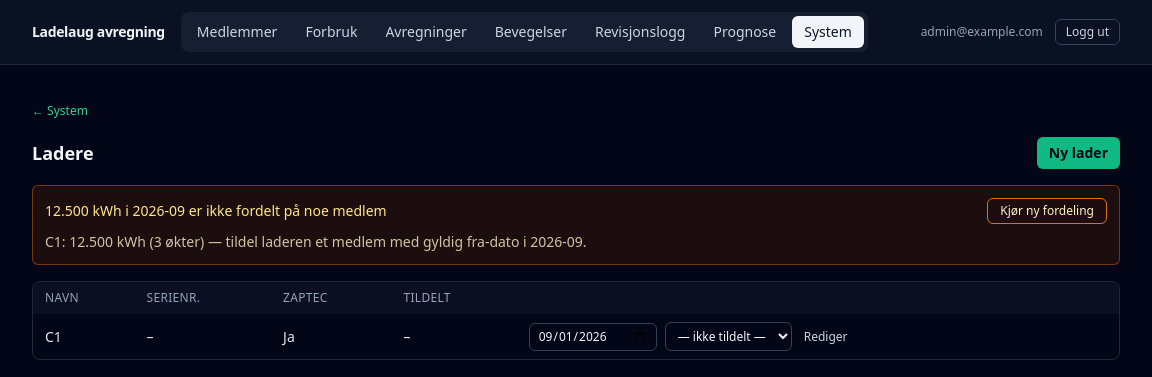
Test: Chargers (admin) › shows the unassigned-consumption banner and re-runs allocation
The image size is (1152, 377).
Expected: the text "12.500 kWh i 2026-09 er ikke fordelt på noe medlem" is shown, 45,201 -> 387,221
Click the button "Kjør ny fordeling". click: (1047, 211)
box: 987,198 -> 1107,224
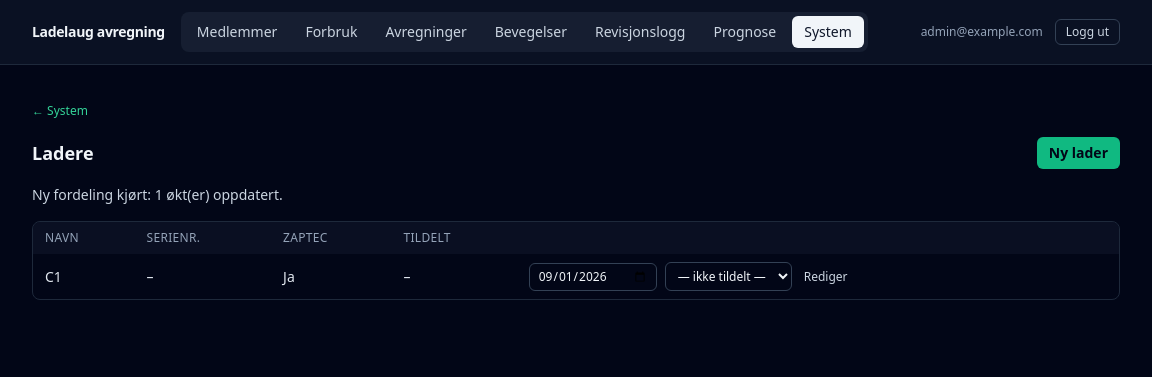
Expected: the text "Ny fordeling kjørt: 1 økt(er) oppdatert." is shown, 32,185 -> 283,204
Expected: the text "er ikke fordelt" is gone
